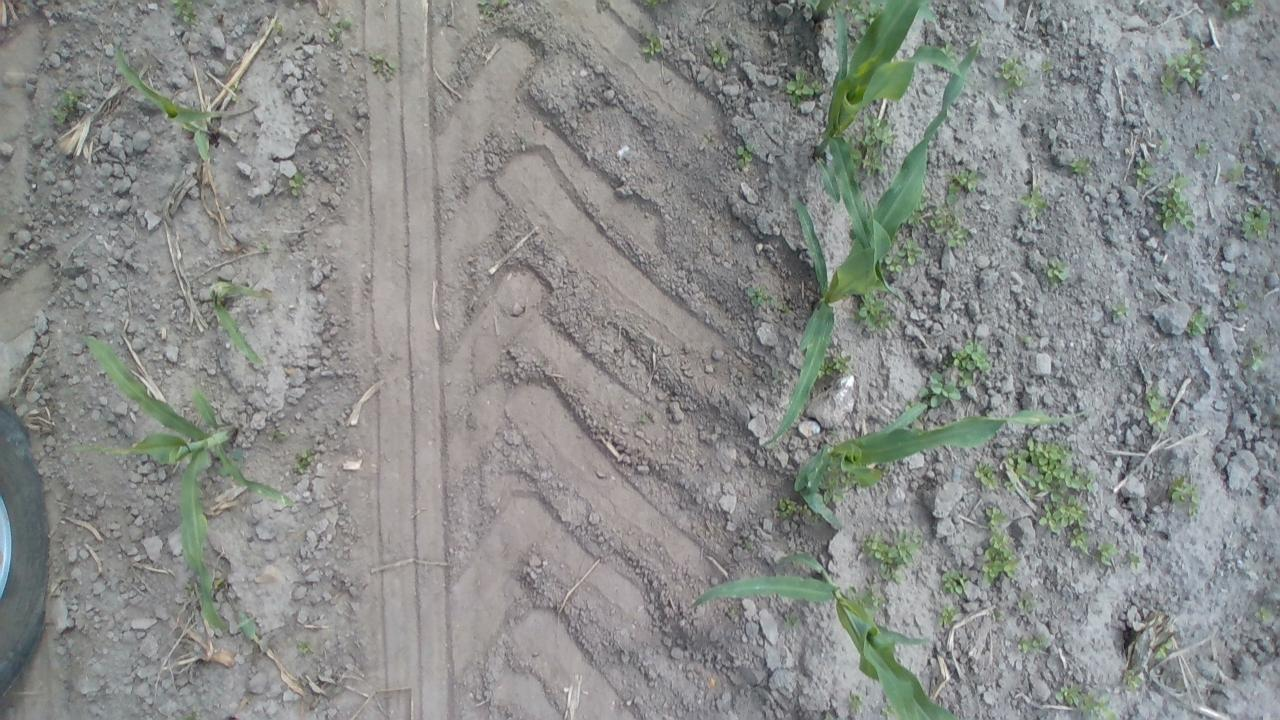Maize: (754, 39, 986, 456), (74, 335, 297, 657), (688, 551, 964, 720), (792, 390, 1102, 534), (807, 2, 927, 276), (113, 43, 226, 169), (200, 278, 273, 375)
Weeds: (1004, 436, 1098, 530), (979, 502, 1020, 586), (858, 530, 921, 584), (849, 116, 901, 181), (1158, 37, 1211, 89), (1152, 174, 1196, 233), (779, 66, 829, 111), (1054, 684, 1116, 719), (947, 336, 994, 380), (926, 206, 974, 248), (918, 368, 968, 408), (48, 81, 90, 126), (857, 292, 897, 336), (883, 237, 921, 281), (996, 55, 1032, 100), (1234, 204, 1272, 246), (944, 168, 988, 204), (1143, 384, 1172, 436), (1166, 473, 1202, 513), (818, 470, 854, 508), (1016, 186, 1052, 222), (844, 1, 888, 28), (327, 16, 360, 51), (368, 46, 400, 82), (774, 495, 816, 522), (740, 286, 780, 314), (1038, 256, 1071, 289), (821, 352, 858, 380), (937, 566, 969, 597), (637, 26, 665, 61), (1107, 295, 1137, 326), (165, 0, 202, 25), (932, 42, 962, 72), (1124, 548, 1154, 578), (856, 584, 888, 612), (1063, 526, 1094, 554), (1182, 308, 1209, 340), (706, 38, 733, 70), (733, 138, 758, 172), (1118, 666, 1150, 692), (1013, 591, 1045, 617), (290, 449, 318, 477), (1095, 539, 1120, 568), (1244, 339, 1263, 377), (1012, 636, 1052, 654), (1126, 160, 1154, 185), (844, 687, 868, 716), (476, 0, 514, 18), (1066, 153, 1091, 180), (284, 170, 306, 199), (974, 459, 994, 490), (266, 425, 290, 450), (782, 610, 806, 634), (1154, 636, 1178, 659), (293, 640, 318, 662), (938, 603, 958, 630), (1224, 298, 1250, 318), (254, 236, 274, 261), (264, 18, 286, 40), (903, 209, 924, 232), (803, 0, 842, 12), (1226, 162, 1248, 183), (1038, 55, 1060, 76), (986, 606, 1010, 625), (1228, 0, 1257, 14), (637, 0, 670, 10), (879, 698, 897, 716), (1192, 137, 1209, 156), (1256, 604, 1272, 624), (1222, 276, 1238, 292)
